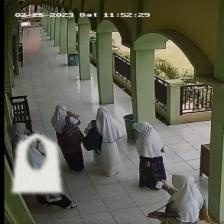Mukena: (12, 132, 61, 192)
